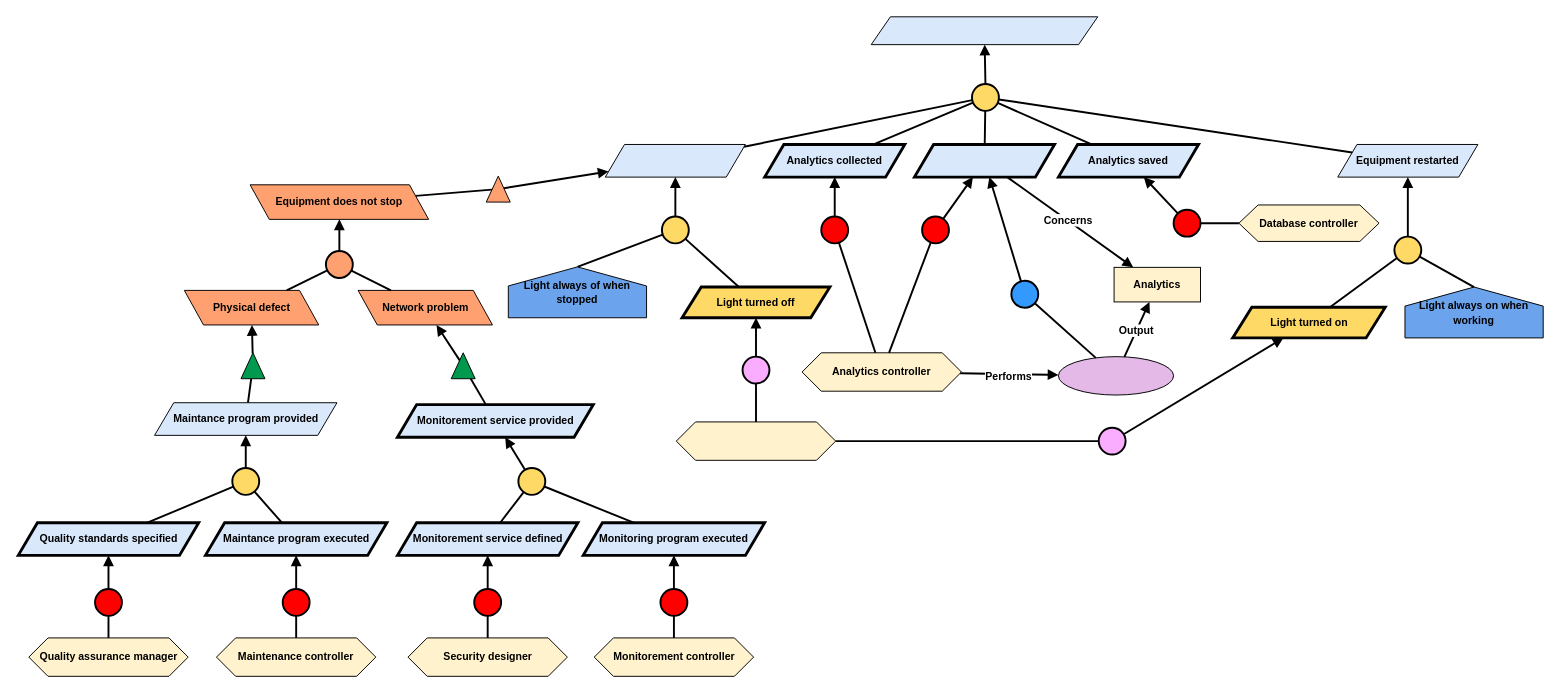
Some shapes in this 1560 by 693 pixel diagram are drawn without their labels. The centre of each missing label's shape, as x and y in pixels:
"Analytics computed" goes at point (984, 160).
"Collect analytics from equipments" goes at point (984, 30).
"Compute analytics" goes at point (1115, 375).
"Equipment controller" goes at point (755, 440).
"Equipment stoped" goes at point (674, 160).
